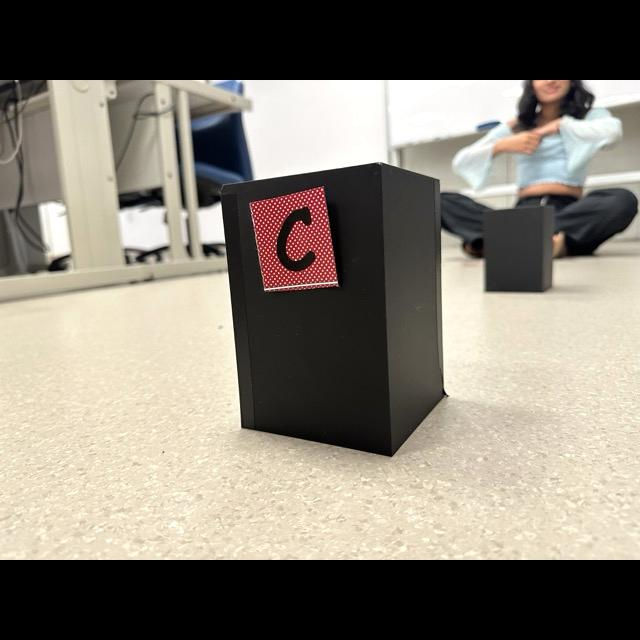C: (276, 207, 315, 271)
